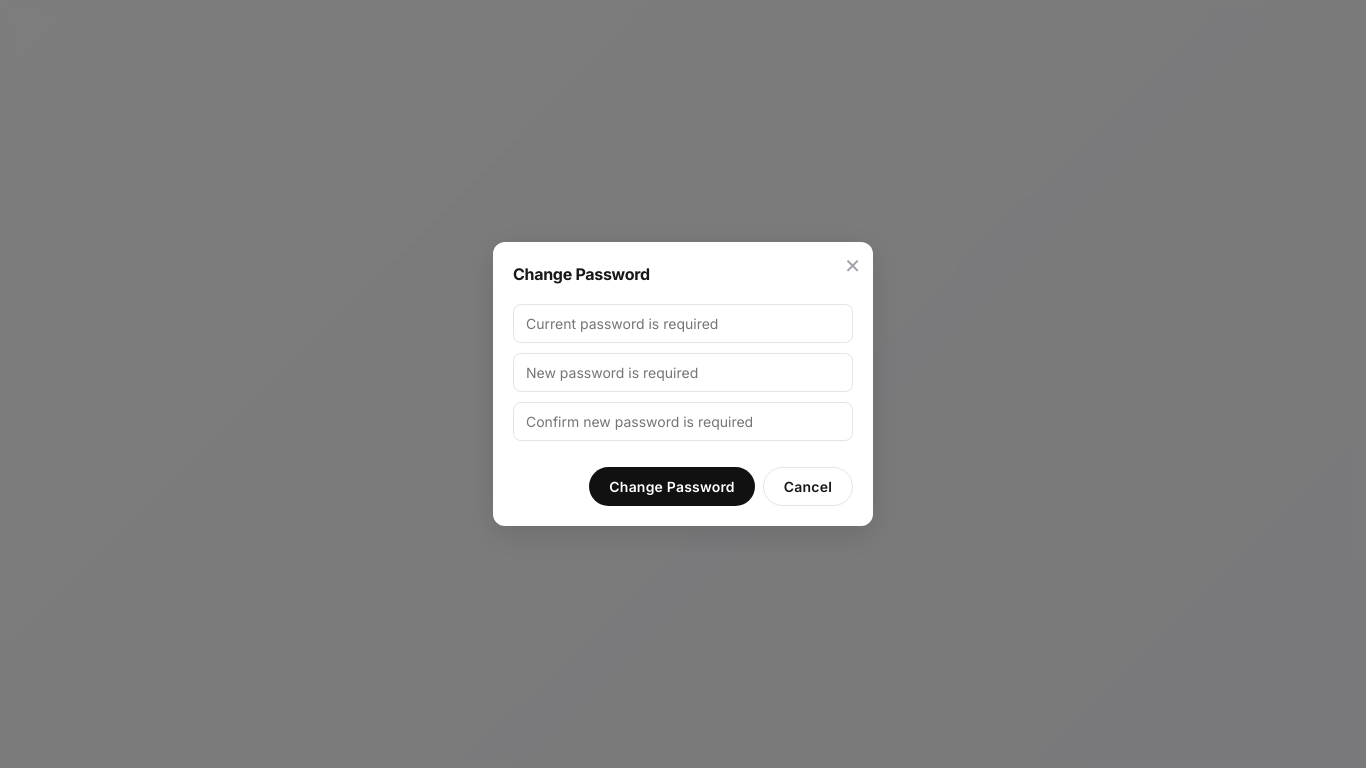
Test case: ProfileModals › Change Password Modal › should disable button while submitting
This screenshot has width=1366, height=768.
Type "oldpassword123" into the password field with placeholder "Current password is required". click: (683, 323)
box: x1=513 y1=304 x2=853 y2=343
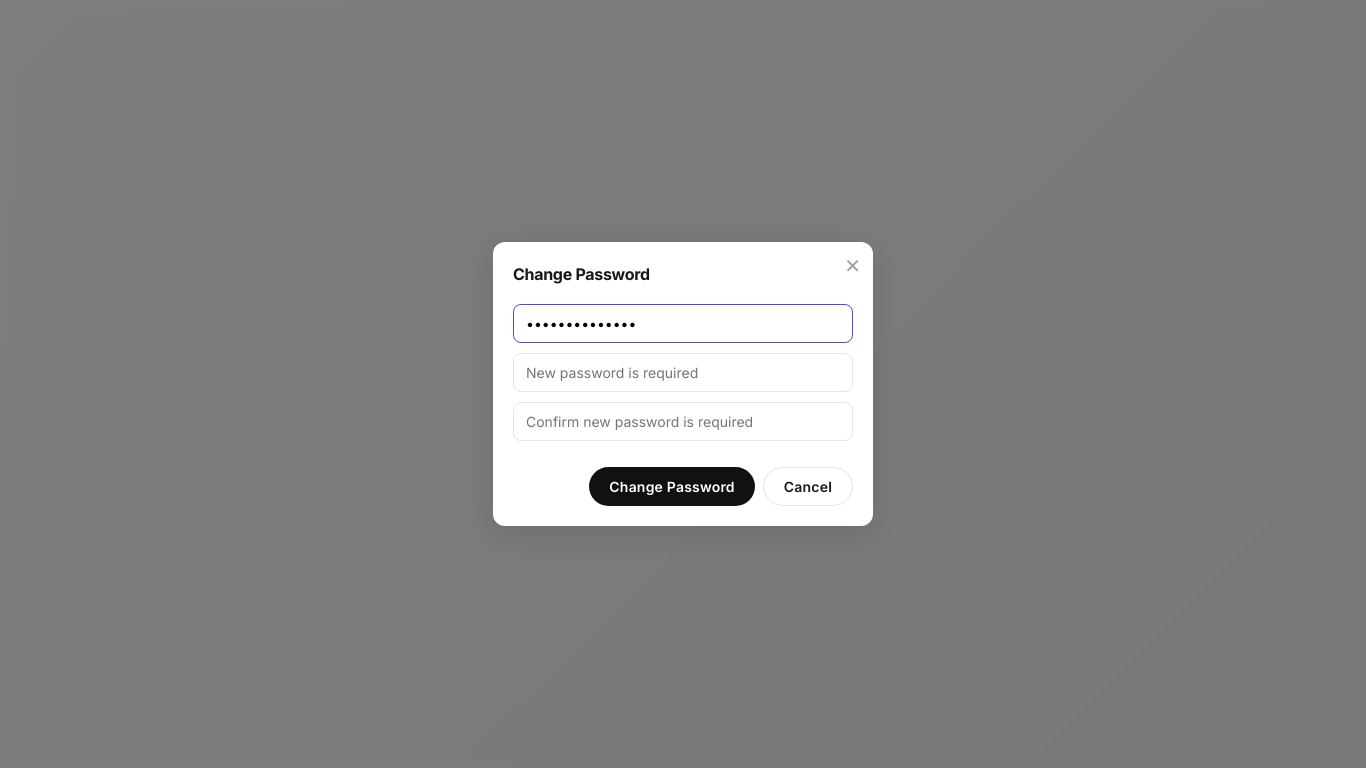
Type "newpassword123" into the password field with placeholder "New password is required". click: (683, 372)
box: x1=513 y1=353 x2=853 y2=392
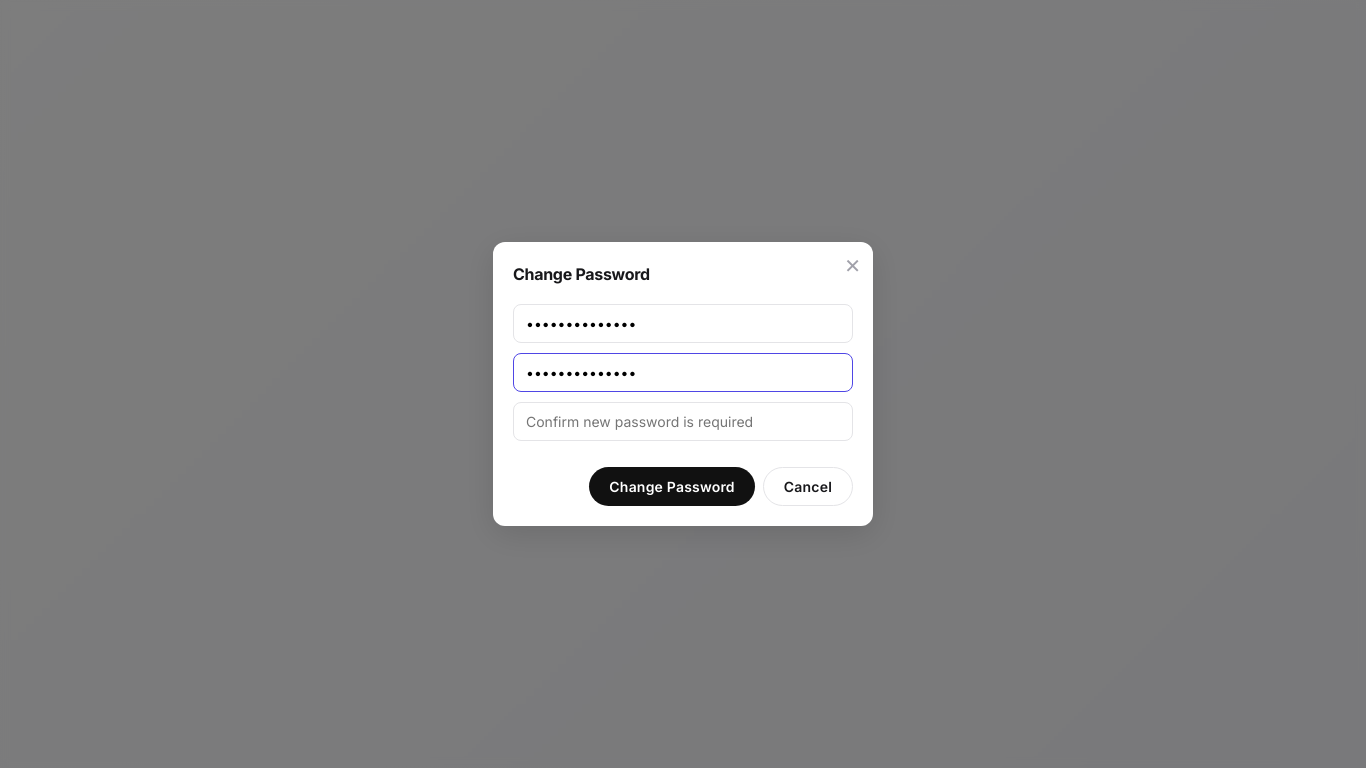
Type "newpassword123" into the password field with placeholder "Confirm new password is required". click: (683, 421)
box: x1=513 y1=402 x2=853 y2=441
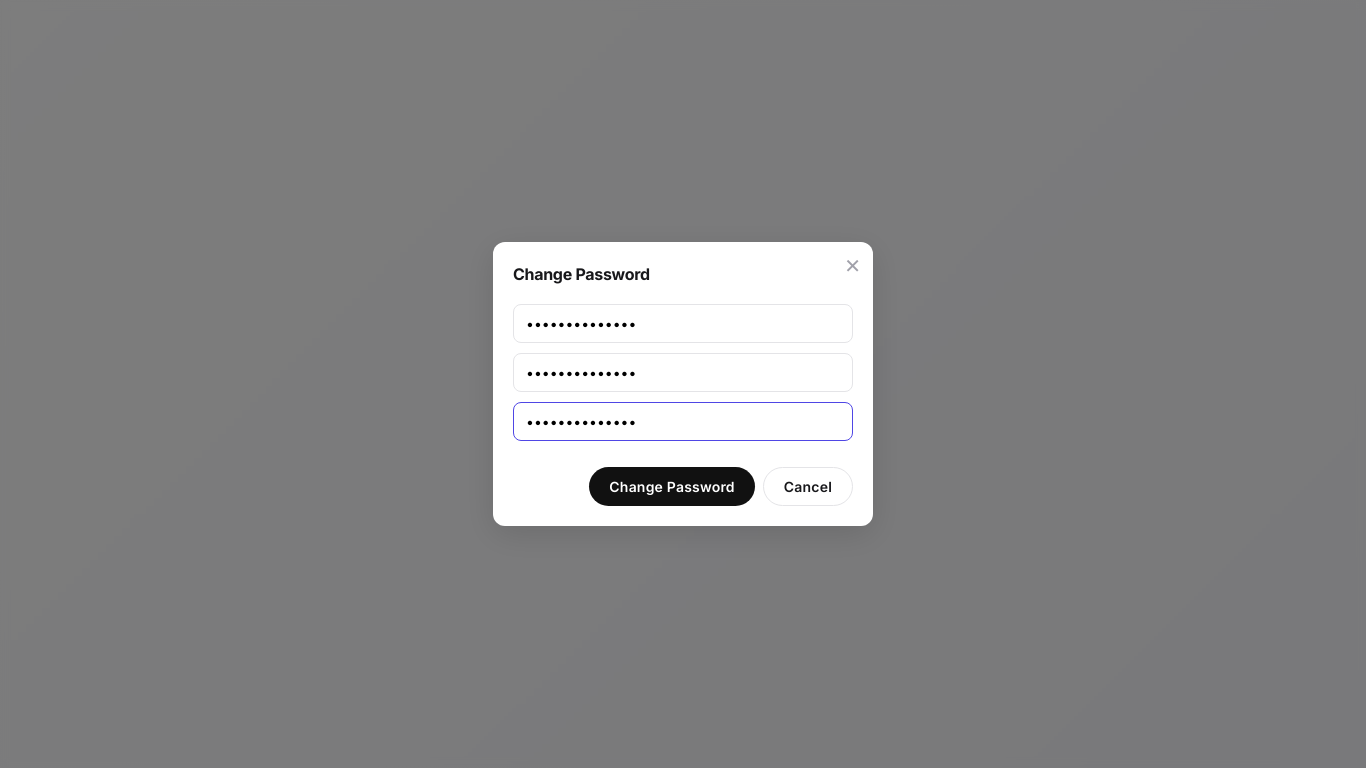
Click the button "Change Password". click: (672, 486)
box: x1=589 y1=467 x2=755 y2=506
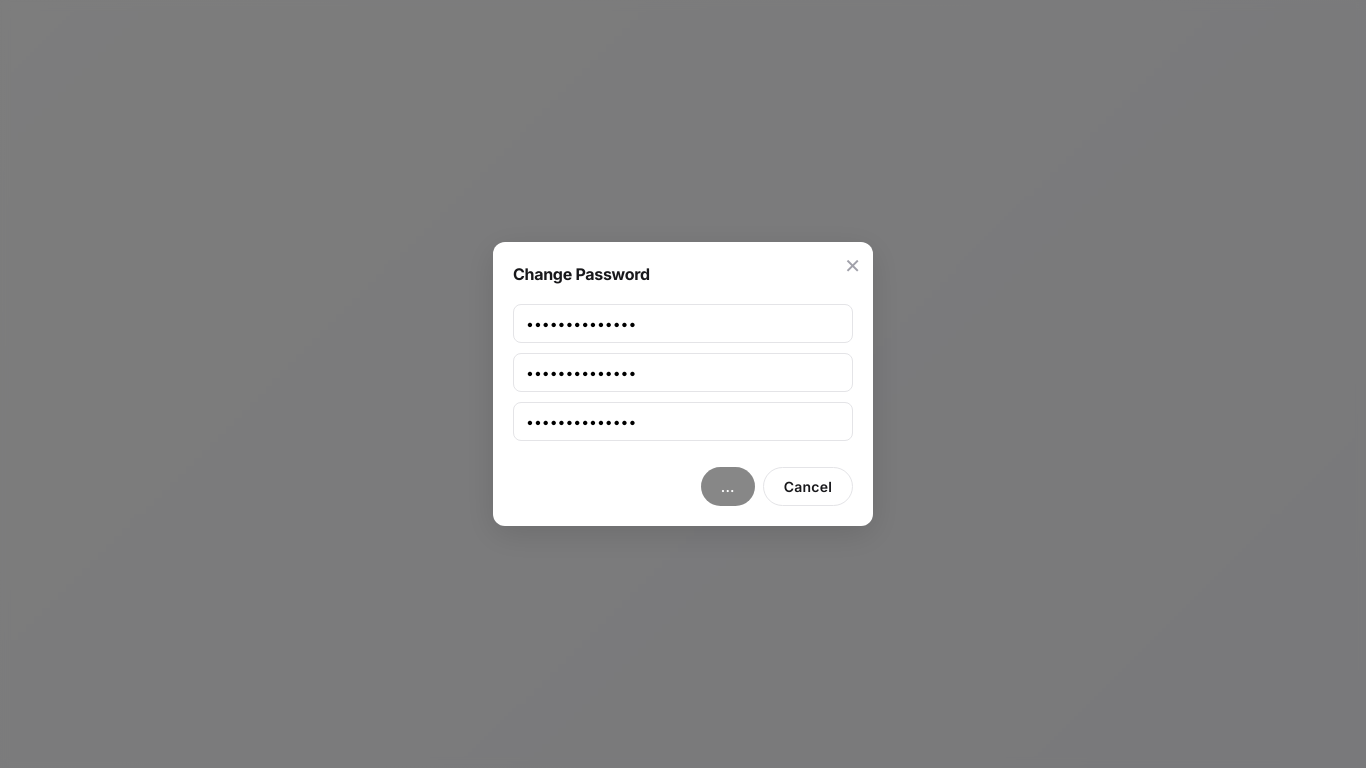
Expected: the button "change password" is disabled, x1=701 y1=467 x2=755 y2=506
